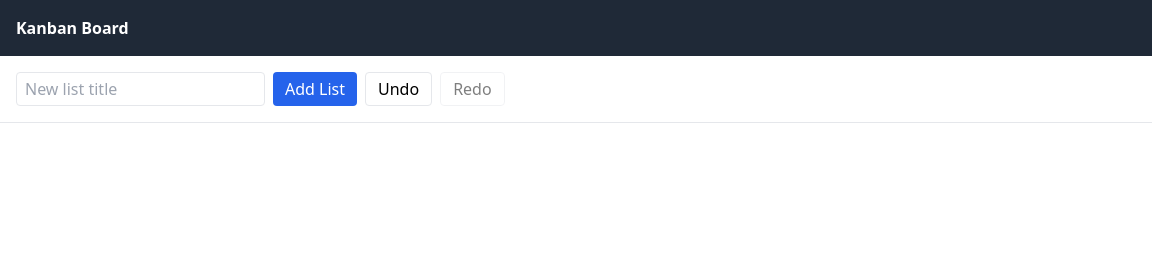
Test: Kanban Board E2E Test › creates a list
Type "My List" into the field with placeholder "New list title" at point(141, 89), box [16,72,265,106]
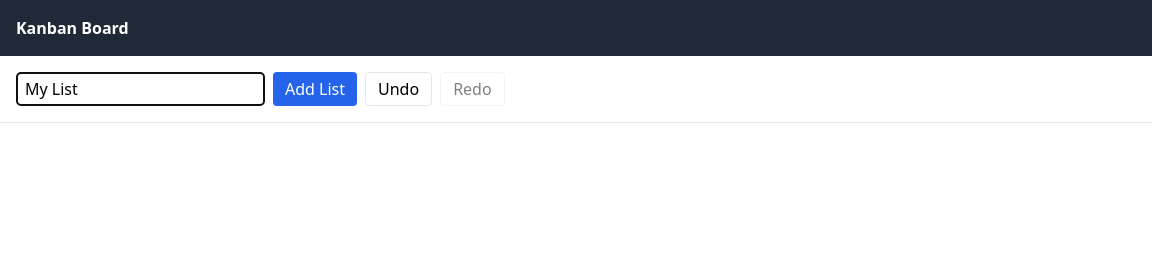
Click the button "Add List" at point(315, 89), box [273,72,357,106]
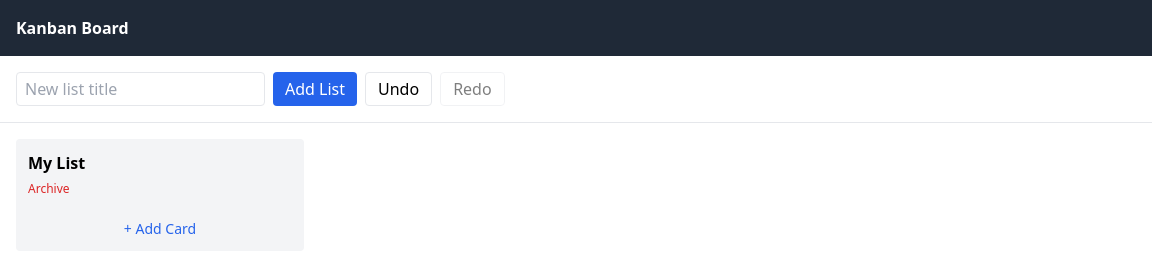
Expected: the heading "My List" is shown, [28,152,85,174]
